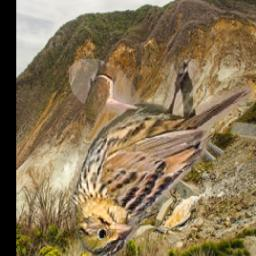Sparrow: (69, 60, 252, 256)
